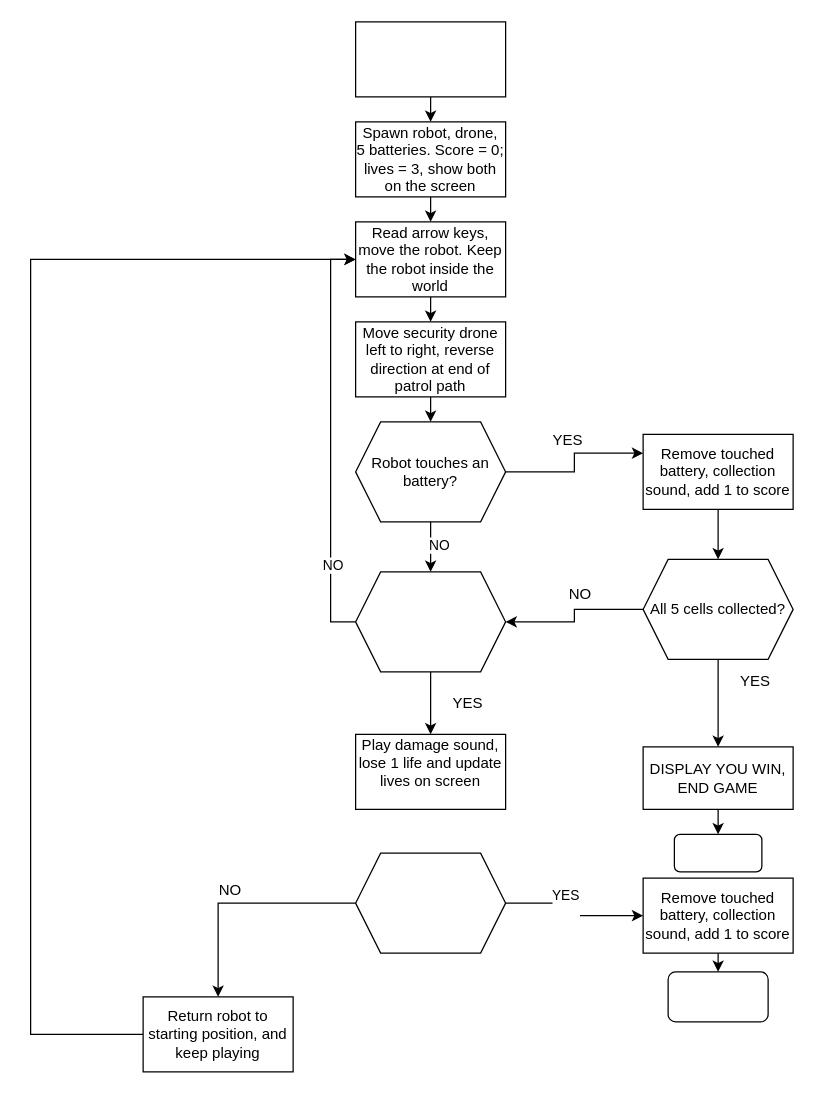
Some shapes in this 815 by 1094 pixel diagram are drawn without their labels. Here are the shapes that lost their labels. From the top down, the centre of each, then its label:
At (x=430, y=59): "START GAME".
At (x=430, y=621): "Robot touches drone?".
At (x=717, y=852): "END WIN".
At (x=430, y=902): "ARE LIVES = 0?".
At (x=717, y=996): "END LOSE".
